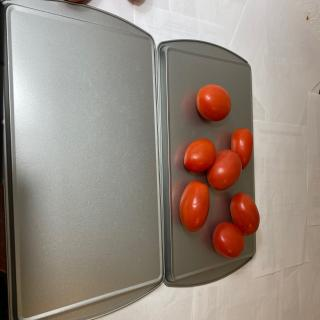Chilli: (179, 83, 260, 259)
Tomato: (179, 180, 210, 232), (207, 149, 242, 191), (196, 84, 232, 121), (230, 192, 260, 236), (212, 222, 245, 258), (183, 138, 216, 172), (230, 128, 253, 169)
